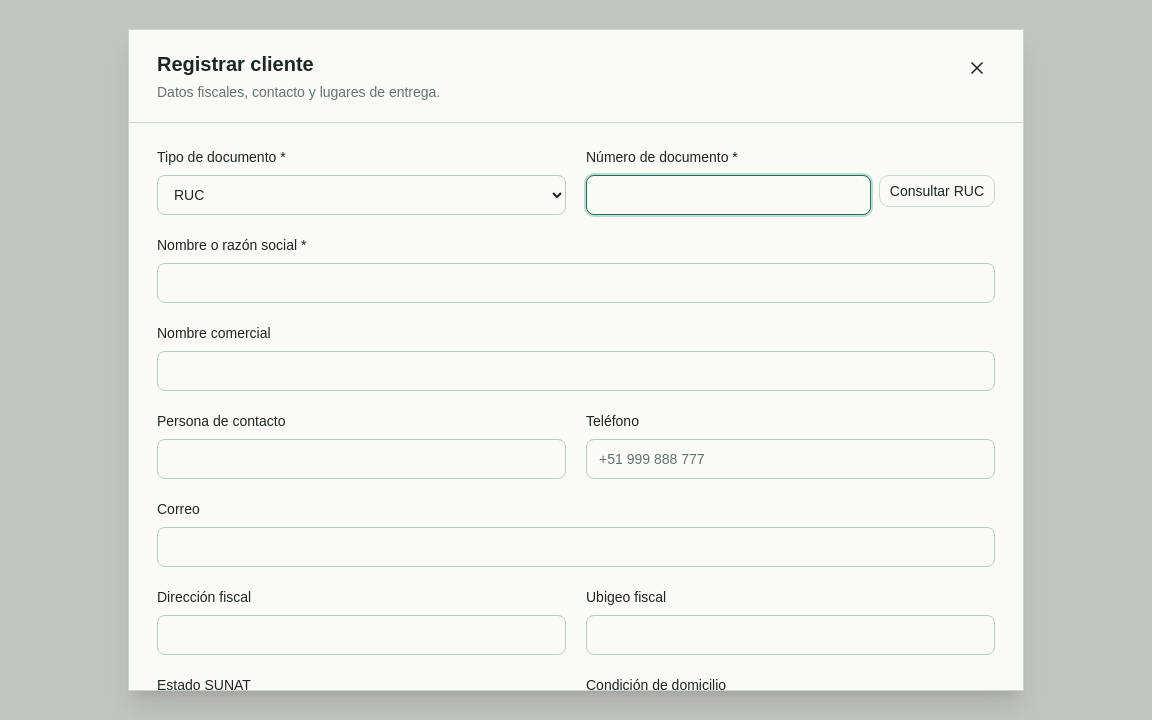
DialogoCliente › mantiene disponible el ingreso manual cuando el proveedor falla
Type "20550154065" into the field labelled "Número de documento *" at (728, 195), box left=586, top=175, right=871, bottom=215
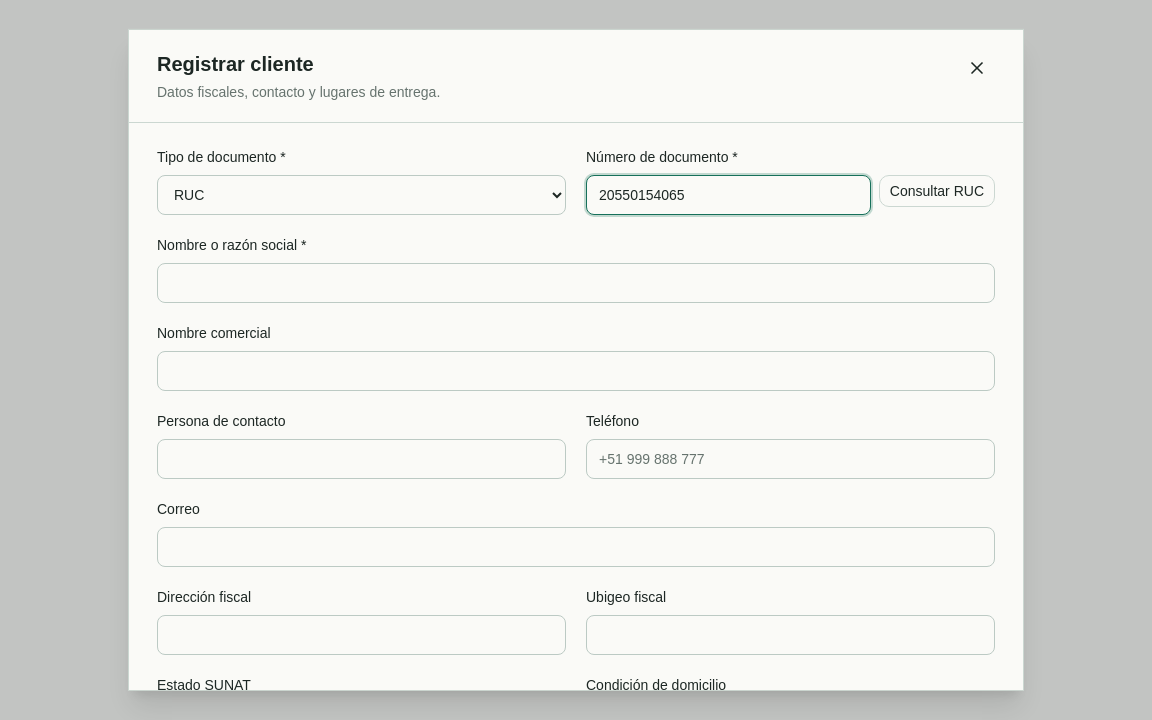
Click the button "Consultar RUC" at (937, 191), box left=879, top=175, right=995, bottom=207
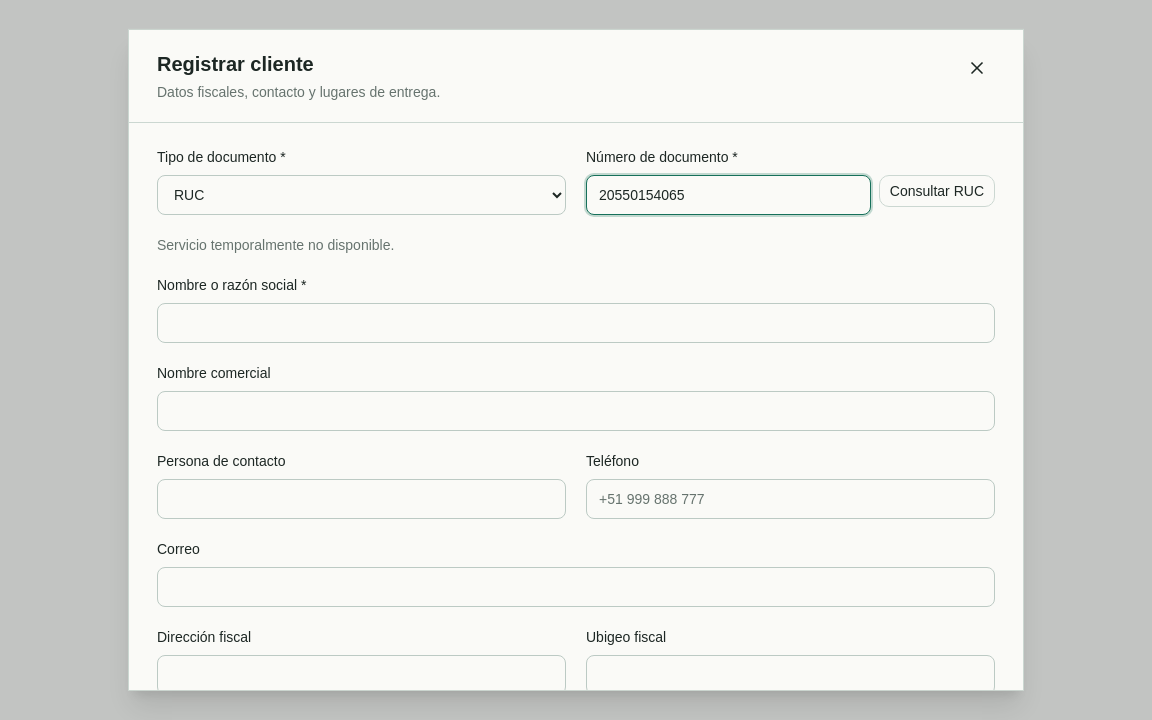
Check: the field labelled "Nombre o razón social *" is enabled, box left=157, top=303, right=995, bottom=343
Check: the text "Servicio temporalmente no disponible." is shown, box left=157, top=237, right=394, bottom=253
